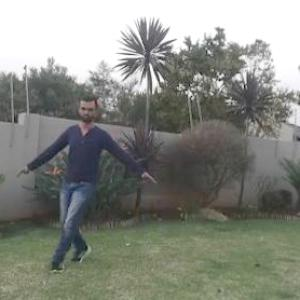land: (24, 96, 158, 260)
